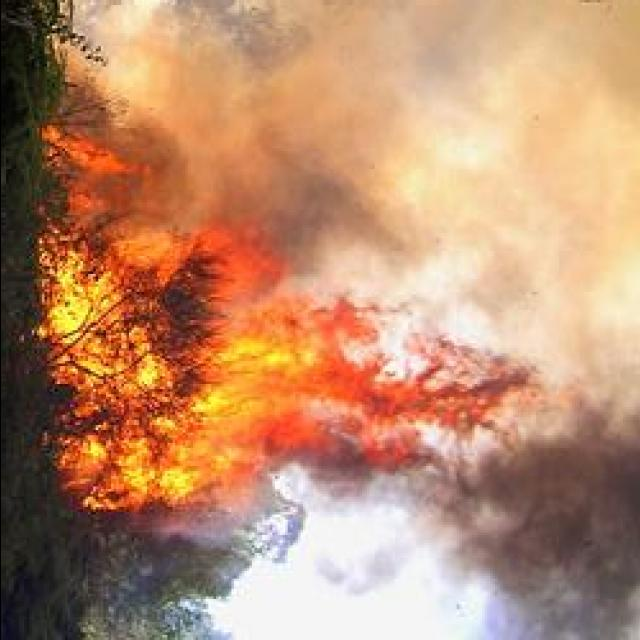fire: (224, 316, 328, 450), (63, 424, 213, 506)
smoke: (452, 1, 640, 336), (215, 0, 435, 266), (435, 428, 640, 640), (336, 338, 534, 422)
